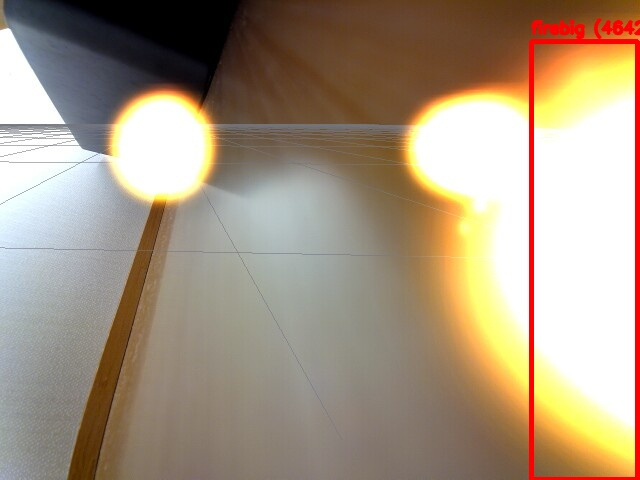firebig: (531, 41, 637, 479)
